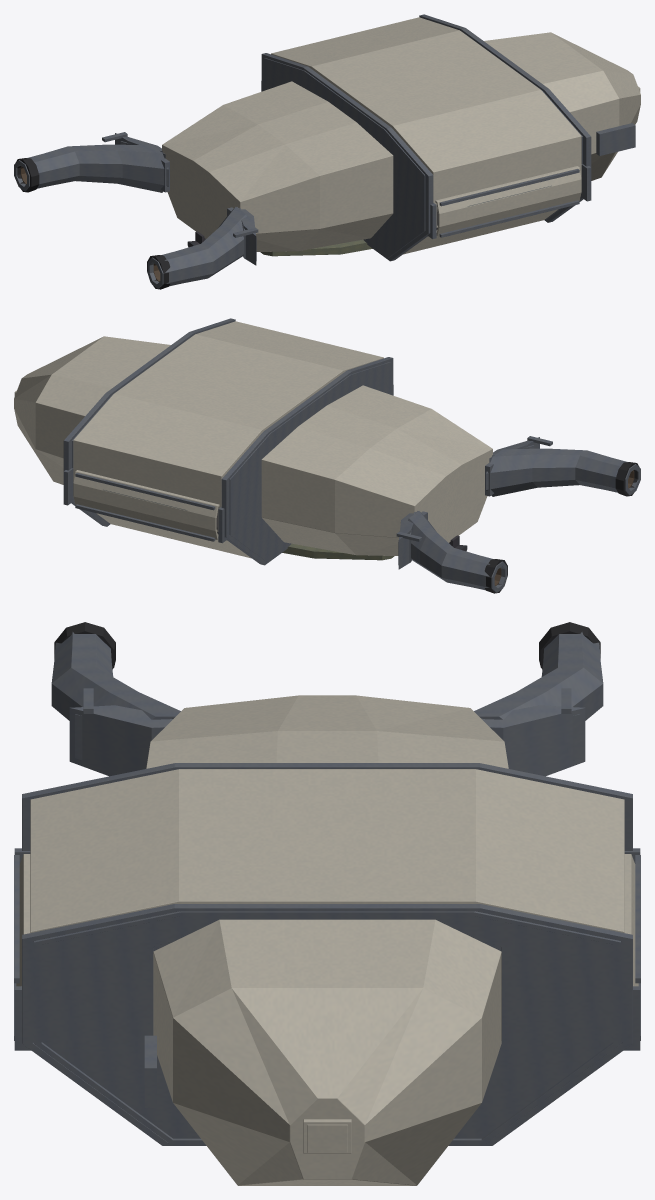
File: massline_express_liner_v1_lod2.glb
3 views of the same model, one above another, from view 1: azimuth 30°, elevation 25°; view 2: azimuth 150°, elevation 25°; view 3: azimuth 270°, elevation 25° (orthographic). The views are drawn at different scales.
Visible parts, largest first — view 1: LOD2_Hull.002, LOD2_Armor.002, LOD2_Radiator.002, LOD2_Thruster.002; view 2: LOD2_Hull.002, LOD2_Armor.002, LOD2_Radiator.002, LOD2_Thruster.002; view 3: LOD2_Hull.002, LOD2_Armor.002, LOD2_Thruster.002.
Boxes of the visible parts, x1,y1,x2,y2 form: LOD2_Hull.002: (162, 17, 640, 254); LOD2_Armor.002: (14, 14, 635, 288); LOD2_Radiator.002: (260, 239, 372, 256); LOD2_Thruster.002: (15, 158, 170, 289); LOD2_Hull.002: (14, 321, 492, 558); LOD2_Armor.002: (63, 318, 640, 592); LOD2_Radiator.002: (282, 543, 394, 560); LOD2_Thruster.002: (484, 462, 639, 593); LOD2_Hull.002: (16, 695, 638, 1185); LOD2_Armor.002: (14, 632, 640, 1145); LOD2_Thruster.002: (54, 622, 600, 669).
Size of what is drawn, in the model's own units: 40.67 by 10.4 by 22.12.
8 materials, 8 textured.
